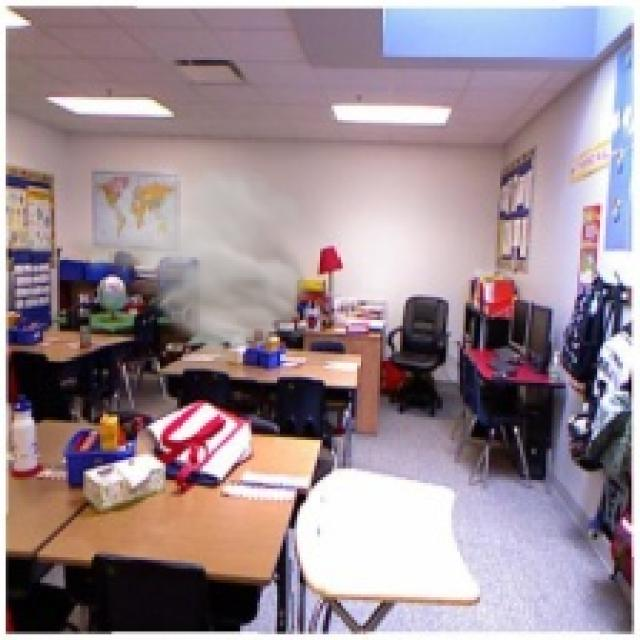smoke: (57, 157, 337, 366)
